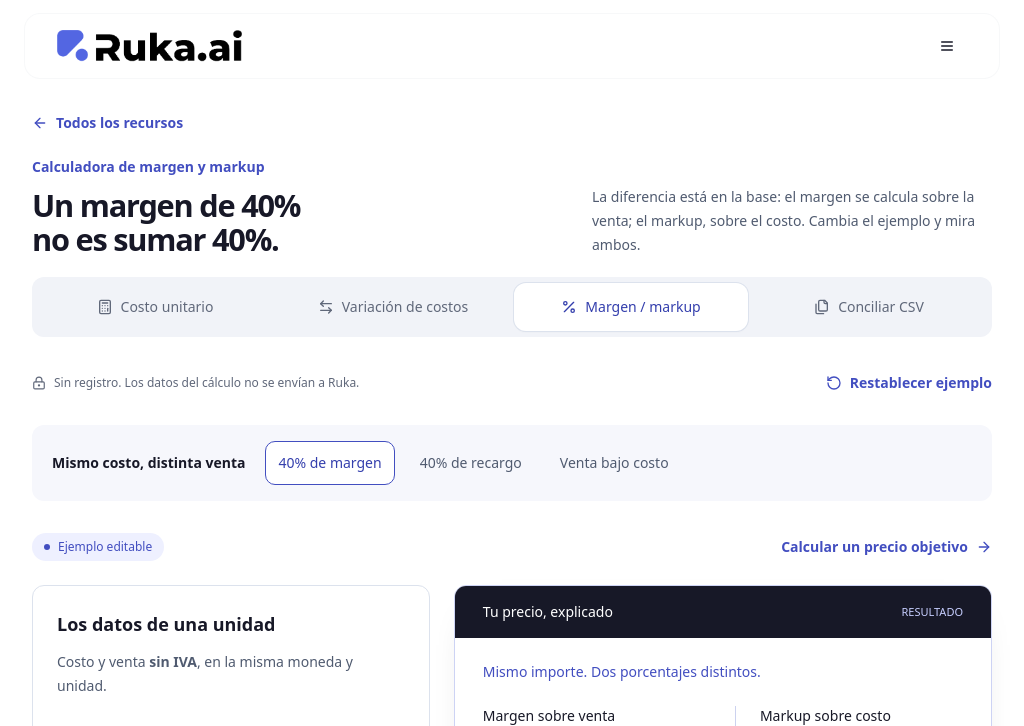
Test case: tool experience upgrade › explains loss instead of painting a negative margin as success
Click the button "Venta bajo costo" at (614, 463), box [547, 441, 682, 485]
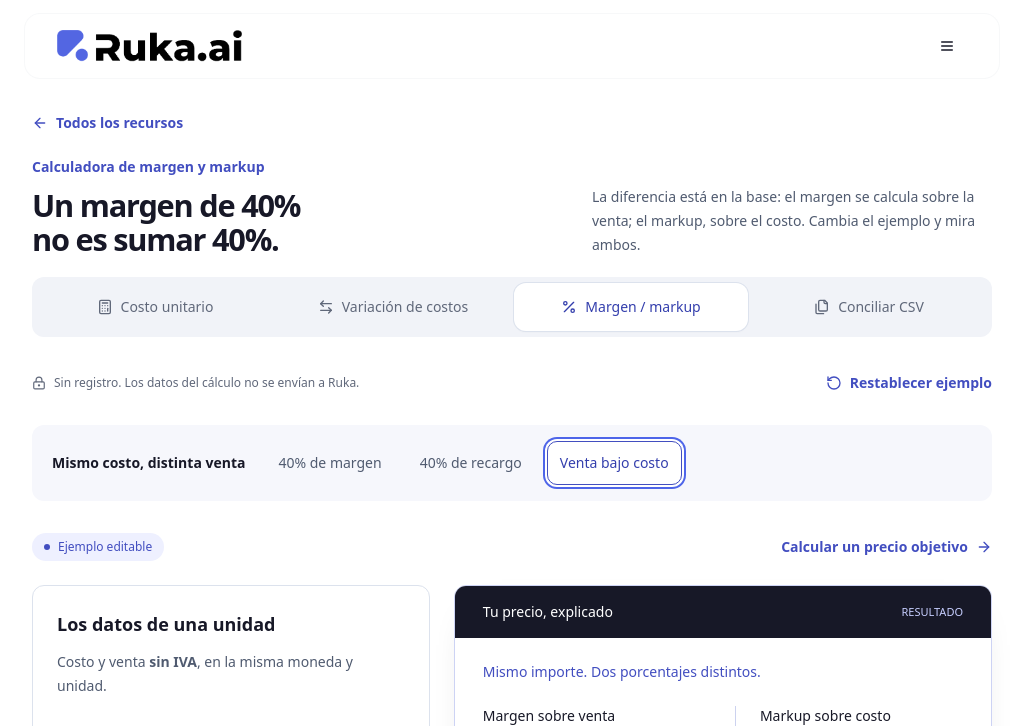
Click the button "40% de recargo" at (471, 463), box [407, 441, 535, 485]
(page scrolled)
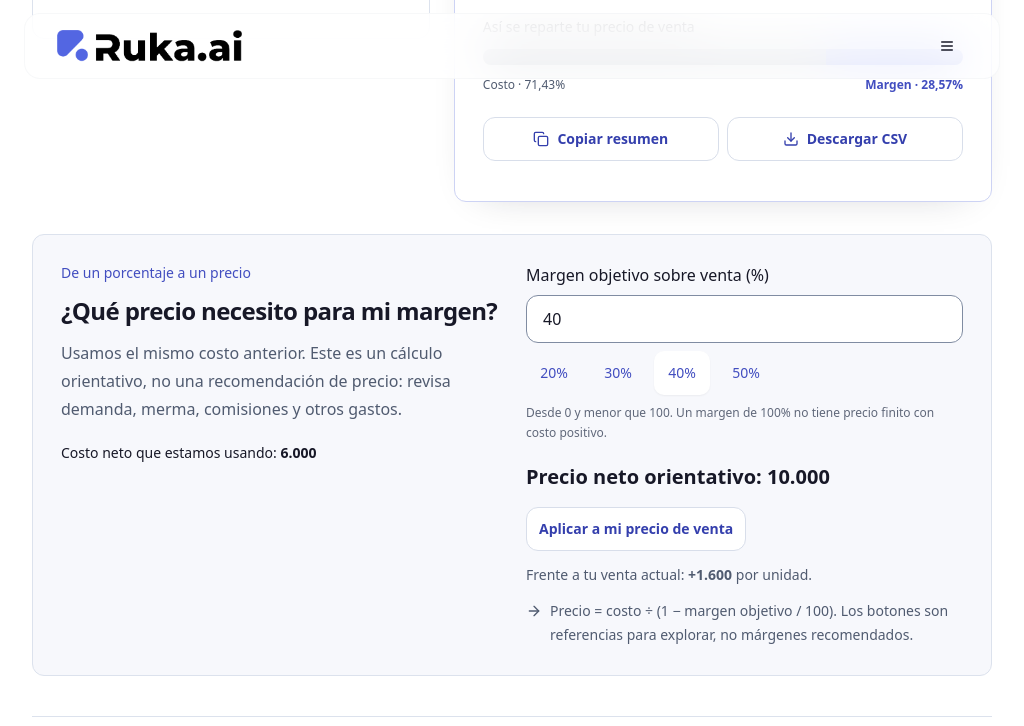
Click the button "50%" at (746, 373), box [718, 351, 774, 395]
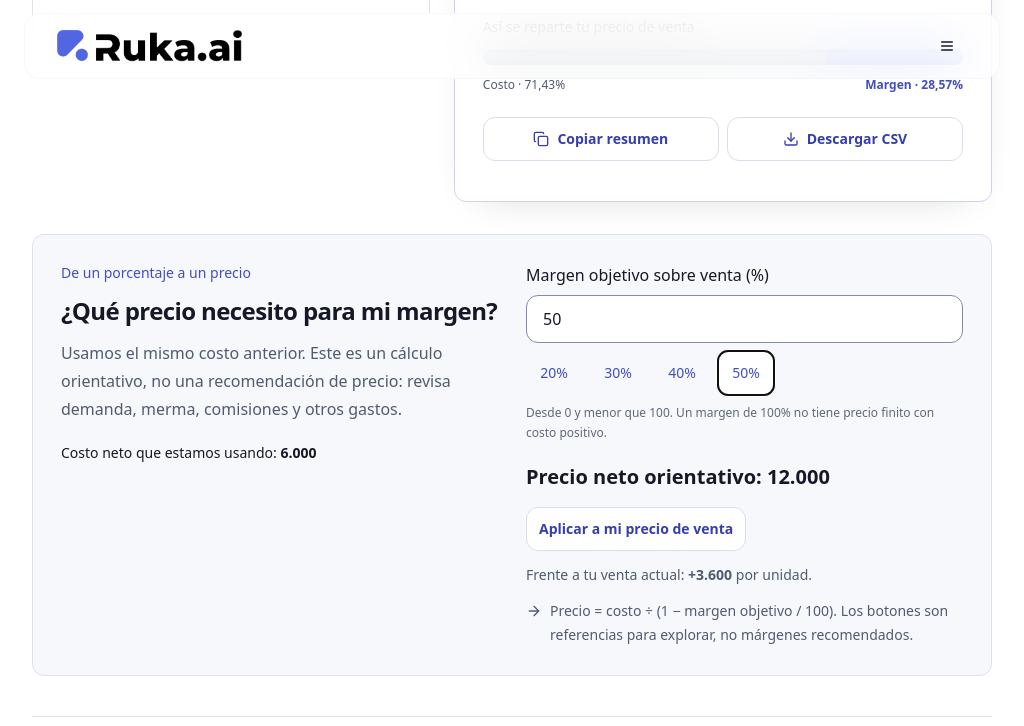
Expected: the text "Precio neto orientativo: 12.000" is shown, [526, 463, 830, 490]
